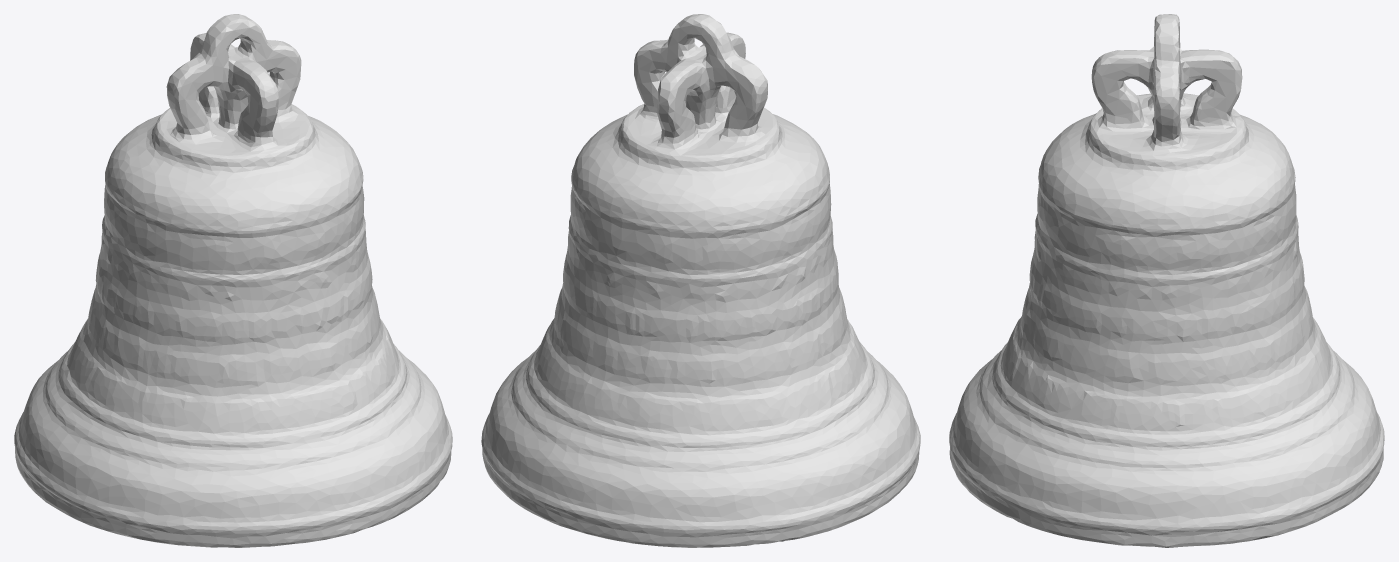
The model's file is orn_bell01.glb.
3 views of the same model, side by side, from view 1: azimuth 30°, elevation 25°; view 2: azimuth 150°, elevation 25°; view 3: azimuth 270°, elevation 25° (orthographic).
Visible parts, largest first — view 1: Low; view 2: Low; view 3: Low.
Boxes of the visible parts, bbox=[...] form: Low: bbox=[14, 14, 452, 547]; Low: bbox=[481, 14, 920, 547]; Low: bbox=[949, 14, 1384, 547].
Bounding box in the file's own units: 1.63 × 1.99 × 1.63.
Materials: 1 (1 with a texture image).
